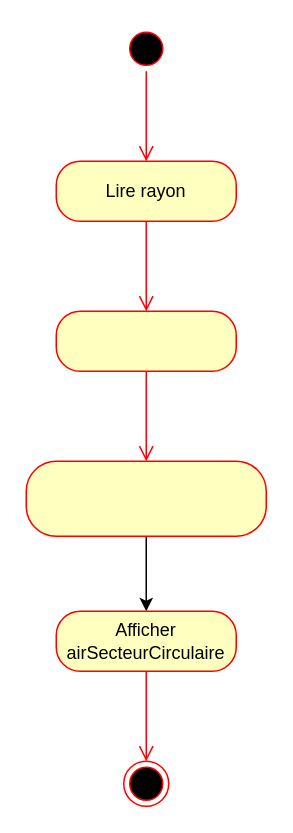
This 293x833 diagram has some shape labels left out. The centre of each missing label's shape, as x and y in pixels:
"aireSecteurCirculaire <-- (PI*R^2*angle)/360" goes at (145,498).
"Lire angle" goes at (145,340).
